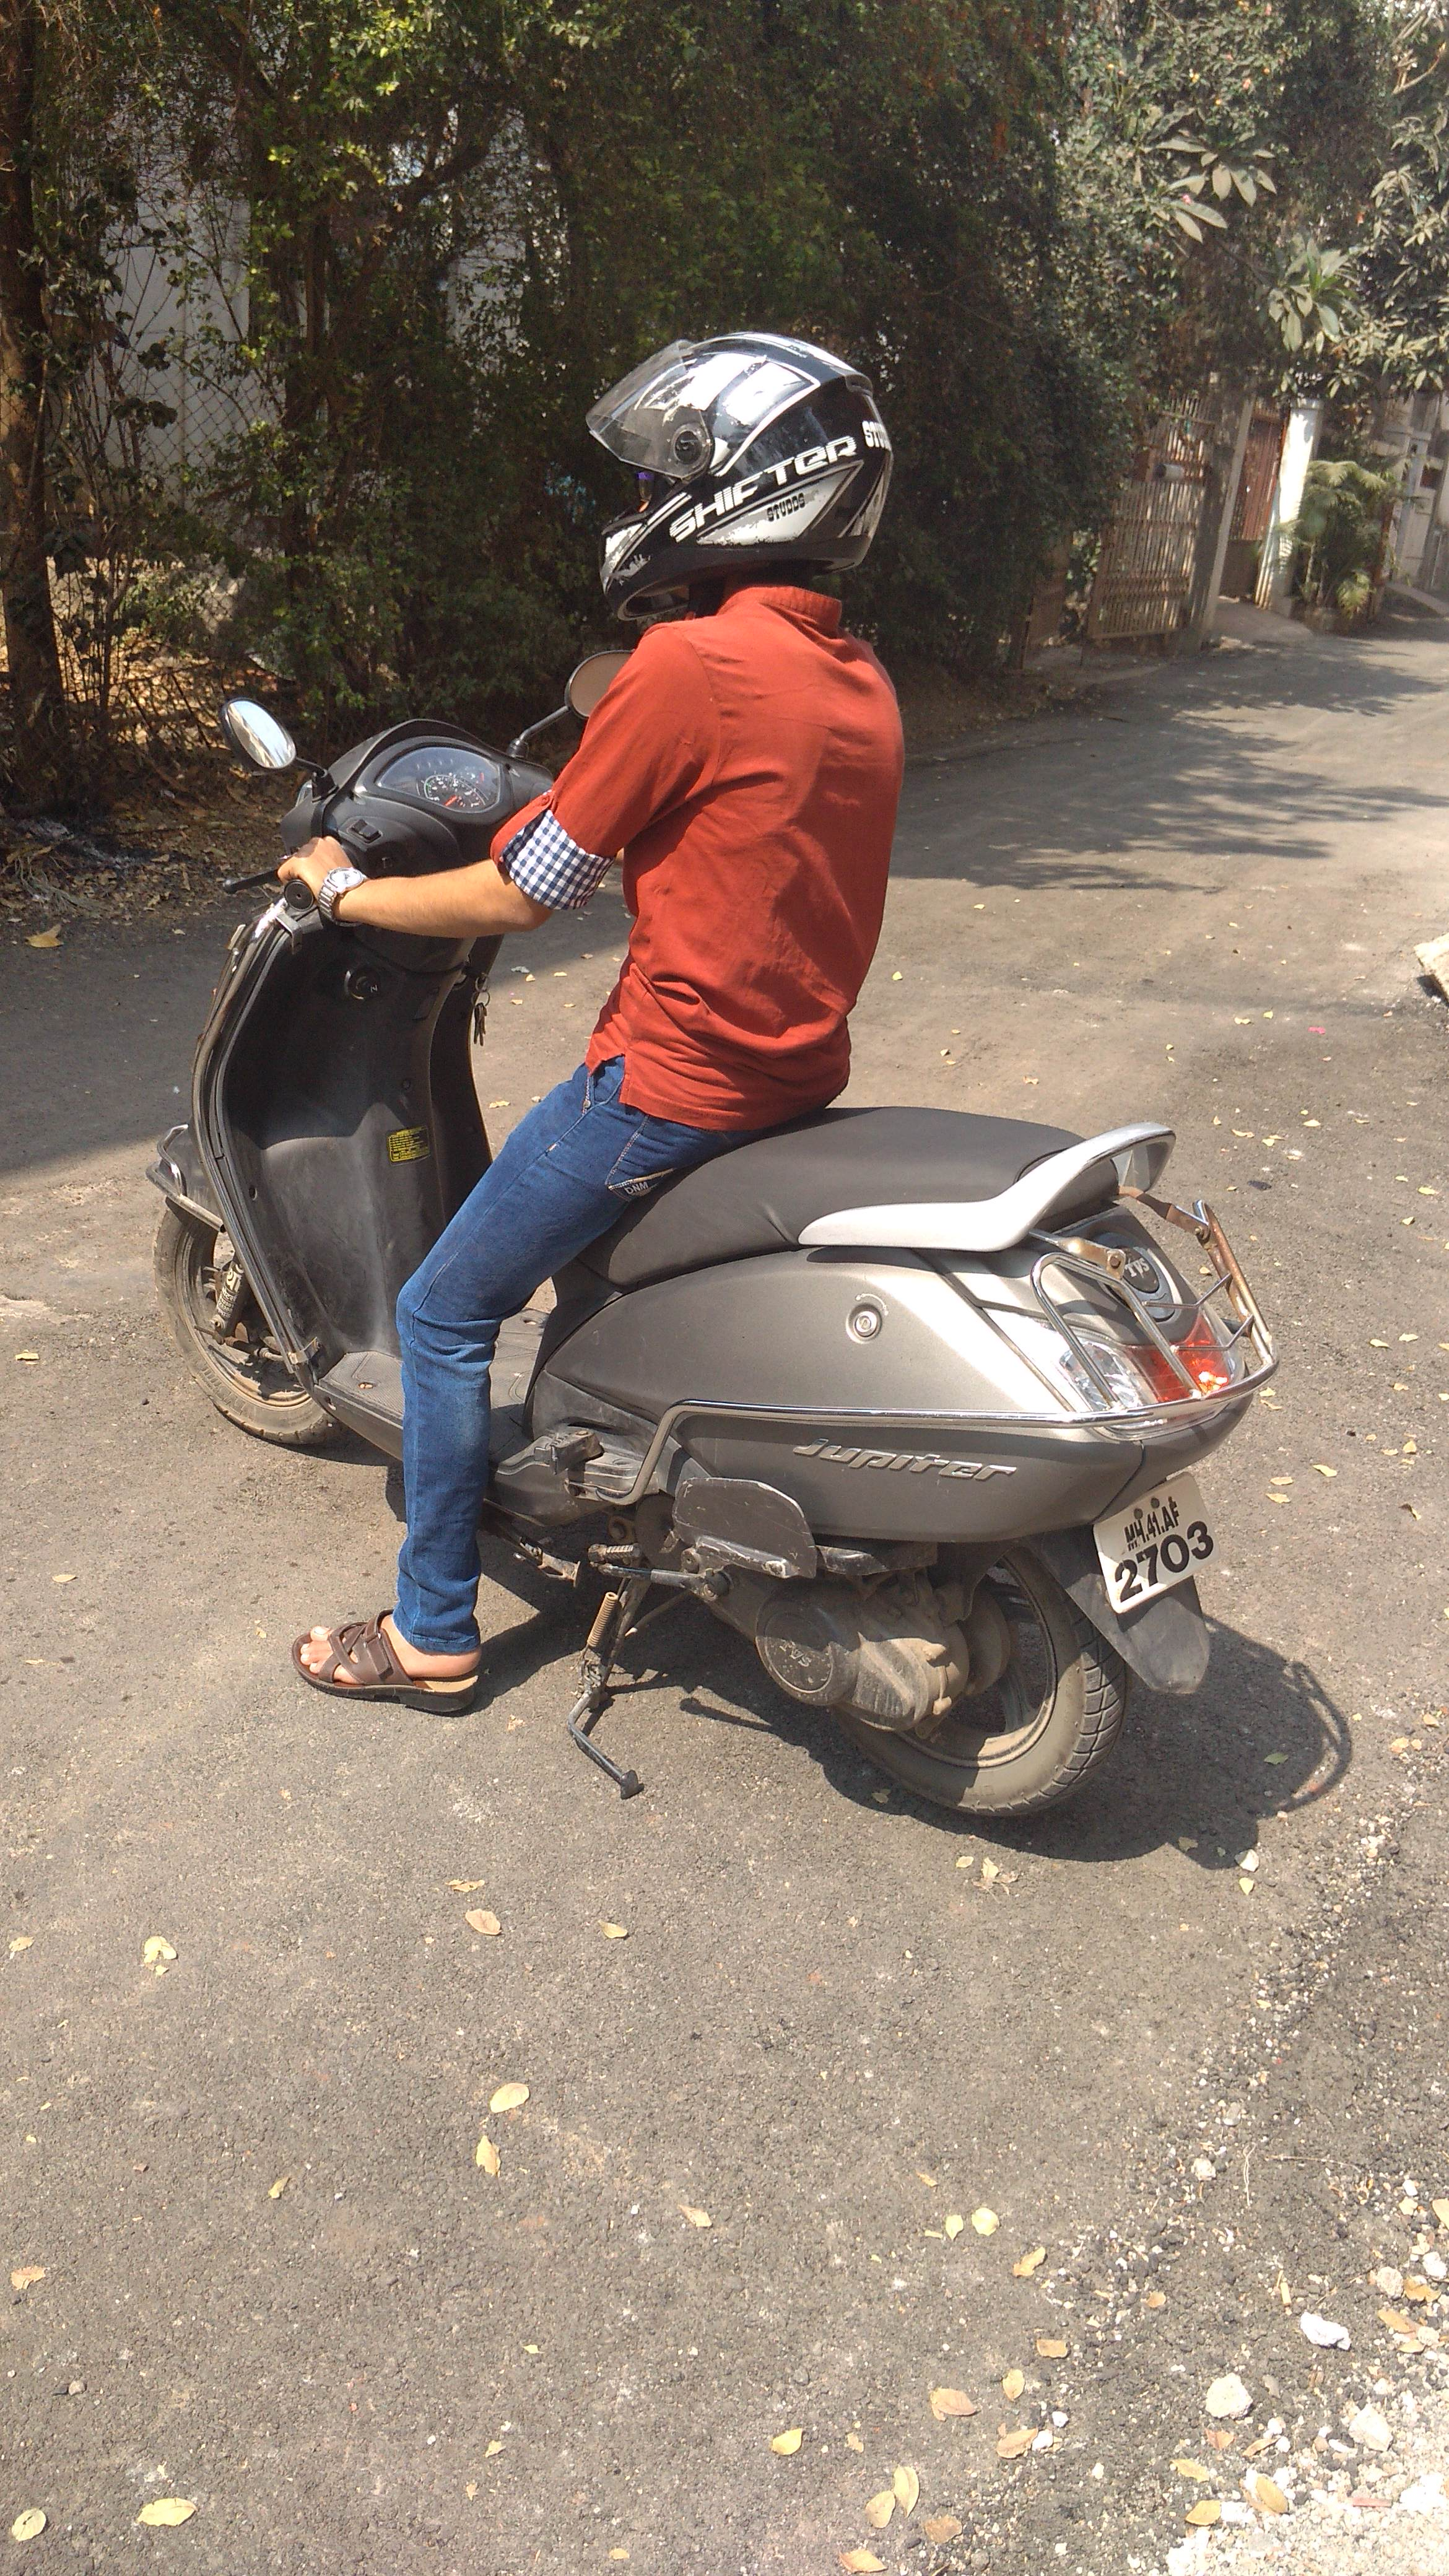helmet: (407, 313, 952, 1263)
